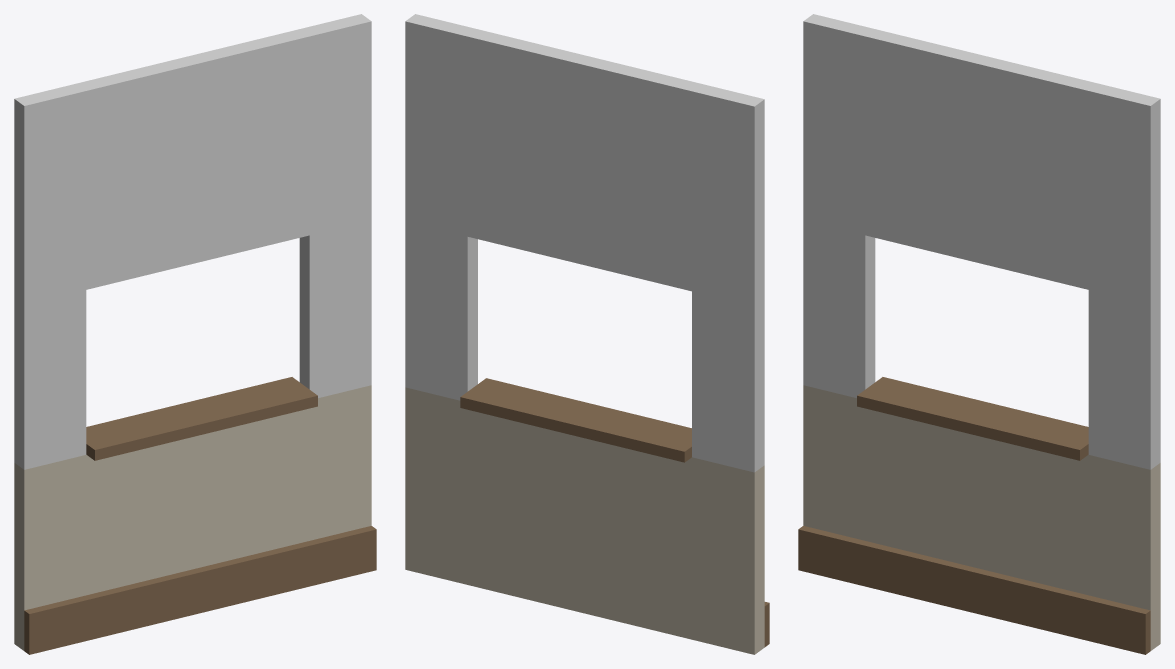
Rendered from Mesh_WallBaseboard2Colors_B3.fbx.
3 views of the same model, side by side, from view 1: azimuth 30°, elevation 25°; view 2: azimuth 150°, elevation 25°; view 3: azimuth 330°, elevation 25° (orthographic).
Parts seen in each view (by area): view 1: Mesh_WallBaseboard2Colors_B3; view 2: Mesh_WallBaseboard2Colors_B3; view 3: Mesh_WallBaseboard2Colors_B3.
Boxes of the visible parts, x1=… form: Mesh_WallBaseboard2Colors_B3: x1=14, y1=14, x2=376, y2=654; Mesh_WallBaseboard2Colors_B3: x1=405, y1=14, x2=769, y2=654; Mesh_WallBaseboard2Colors_B3: x1=798, y1=14, x2=1160, y2=654.
Size of the model in its own units: 2 by 3 by 0.2574.
